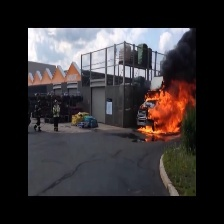fire: (138, 78, 195, 137)
